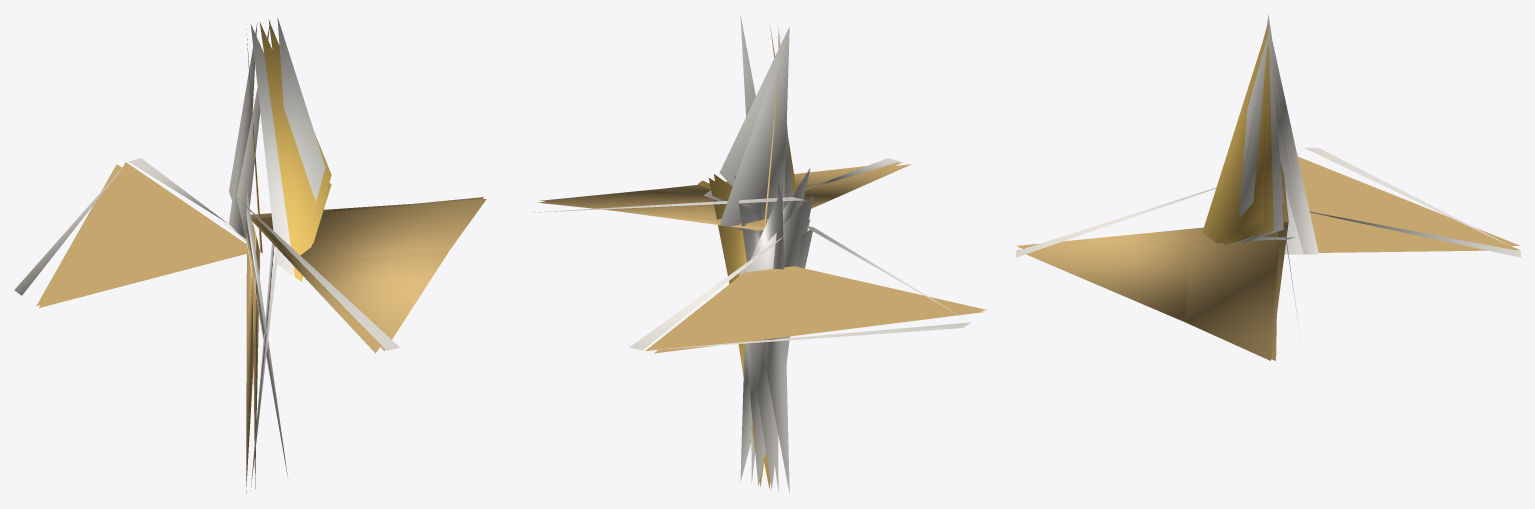
File: npc_chicken_action.glb
3 views of the same model, side by side, from view 1: azimuth 30°, elevation 25°; view 2: azimuth 150°, elevation 25°; view 3: azimuth 270°, elevation 25° (orthographic). The views are drawn at different scales.
Parts seen in each view (by area): view 1: npc_chicken_action; view 2: npc_chicken_action; view 3: npc_chicken_action.
Boxes of the visible parts, left/top/right/bottom form: npc_chicken_action: left=14, top=18, right=486, bottom=492; npc_chicken_action: left=527, top=14, right=986, bottom=493; npc_chicken_action: left=1016, top=14, right=1520, bottom=360.
Bounding box in the file's own units: 2 × 2 × 2.
